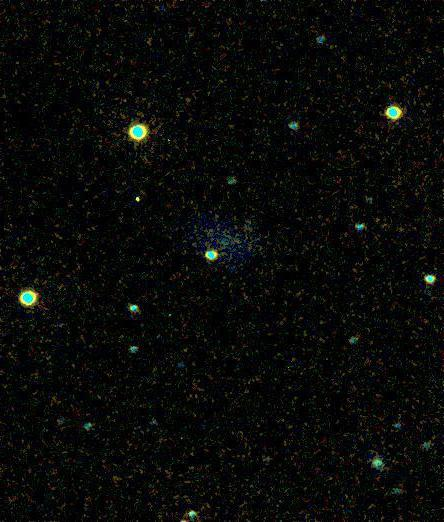star: (119, 185, 149, 215)
